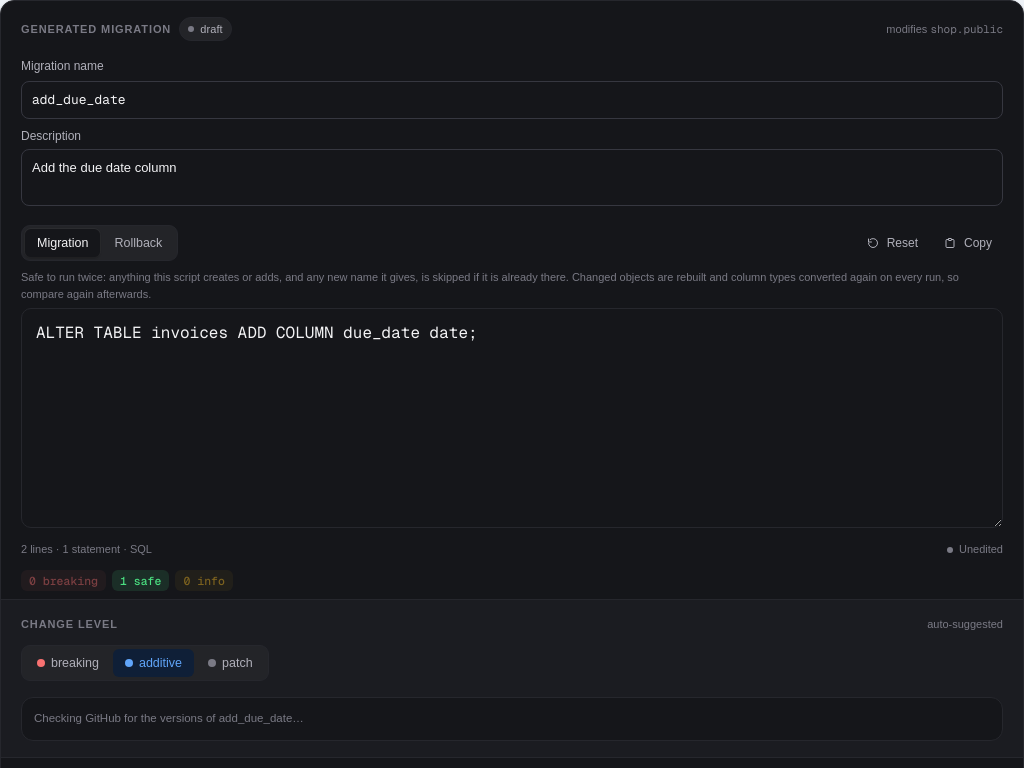
Test case: the script name › says what a name with spaces and symbols becomes
Replace the text in the field labelled "Migration name" with "add due date!": [512, 100] box [21, 81, 1003, 118]
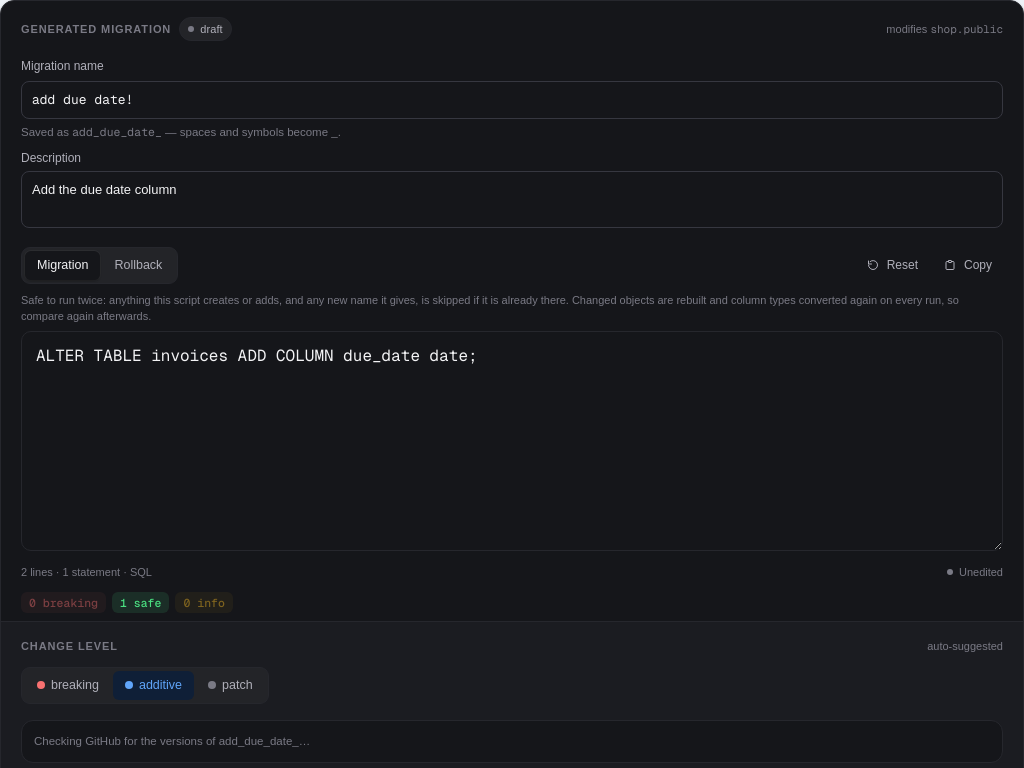
Now the text "Saved as add_due_date_ — spaces and symbols become _." is shown, box [21, 124, 341, 138]
